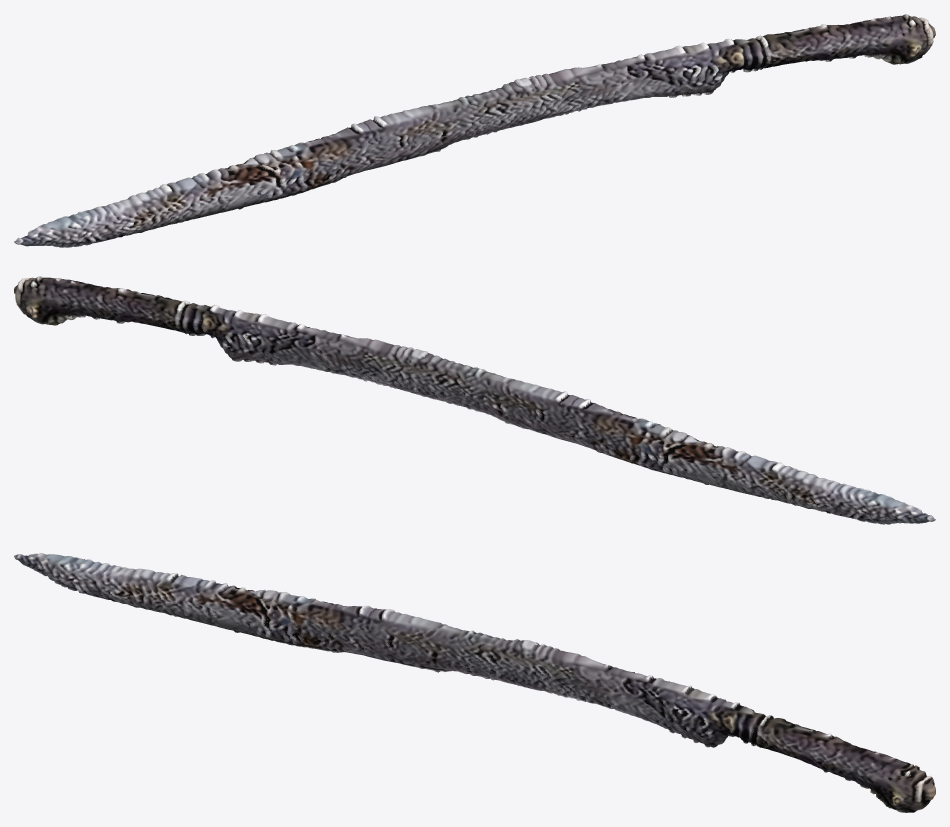
Rendered from kfl-2268.glb.
3 views of the same model, one above another, from view 1: azimuth 30°, elevation 25°; view 2: azimuth 150°, elevation 25°; view 3: azimuth 330°, elevation 25° (orthographic). The views are drawn at different scales.
Parts seen in each view (by area): view 1: kfl-2268; view 2: kfl-2268; view 3: kfl-2268.
Part boxes in pixels (bbox=[...]): kfl-2268: bbox=[14, 14, 935, 247]; kfl-2268: bbox=[14, 276, 935, 524]; kfl-2268: bbox=[14, 553, 935, 812].
Size of the model in its own units: 0.9877 by 0.0717 by 0.0565.
Materials: 1 (1 with a texture image).
